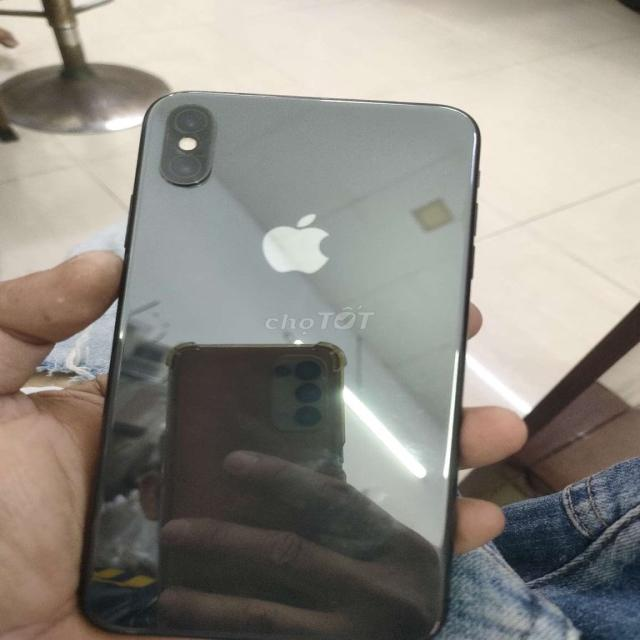scratch: (155, 90, 193, 101)
